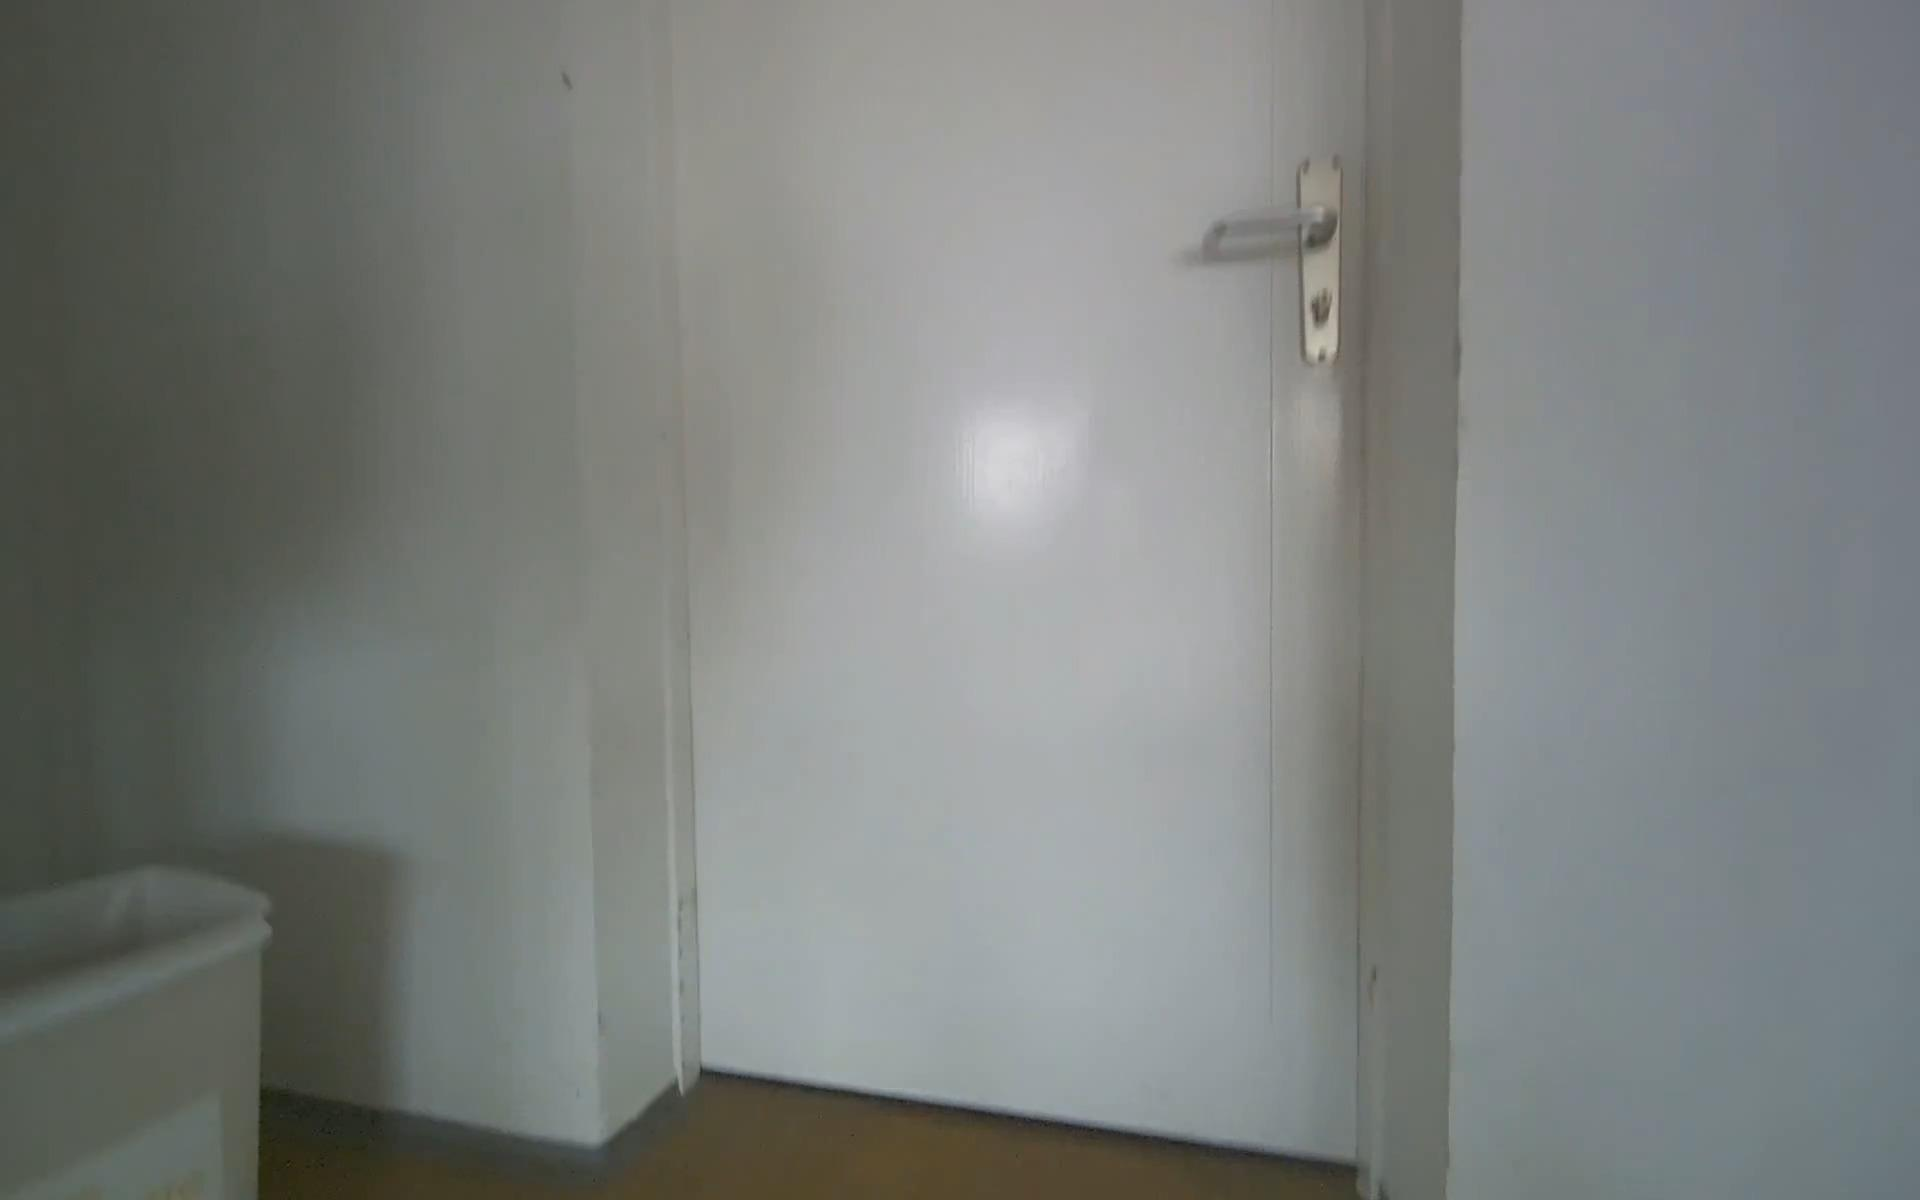doors: (637, 0, 1399, 1199)
